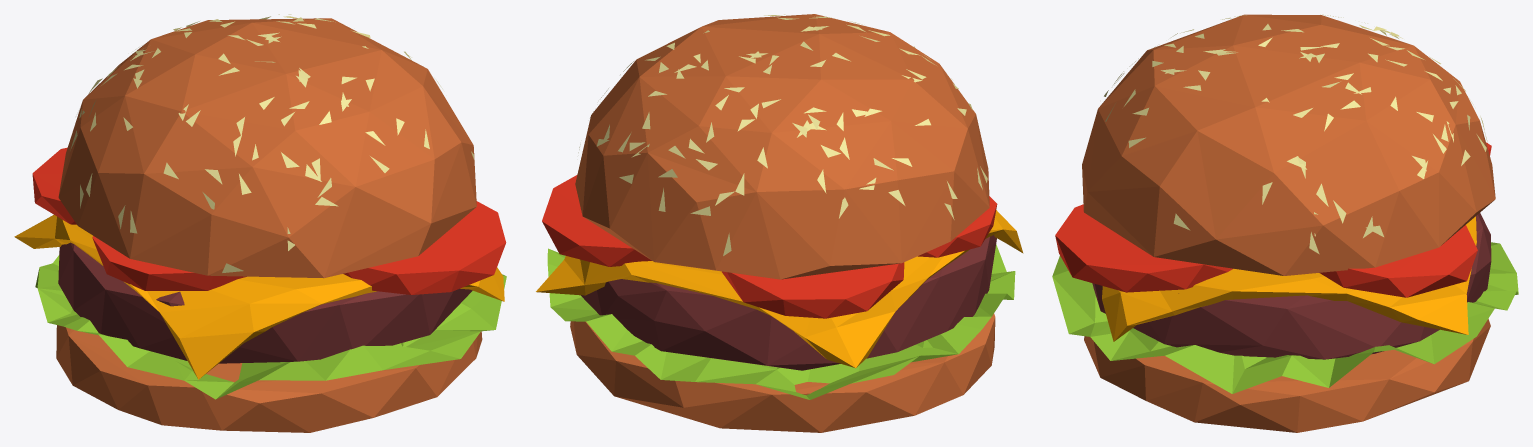
Rendered from burger.fbx.
3 renders of one model, left to right at view 1: azimuth 30°, elevation 25°; view 2: azimuth 150°, elevation 25°; view 3: azimuth 270°, elevation 25°, orthographic.
Parts seen in each view (by area): view 1: bred up.001; view 2: bred up.001; view 3: bred up.001.
Part boxes in pixels (box(x1,y1,x2,y2)): bred up.001: box(14, 14, 506, 432); bred up.001: box(536, 14, 1023, 432); bred up.001: box(1052, 14, 1518, 432).
Size of the model in its own units: 270 by 190 by 270.
